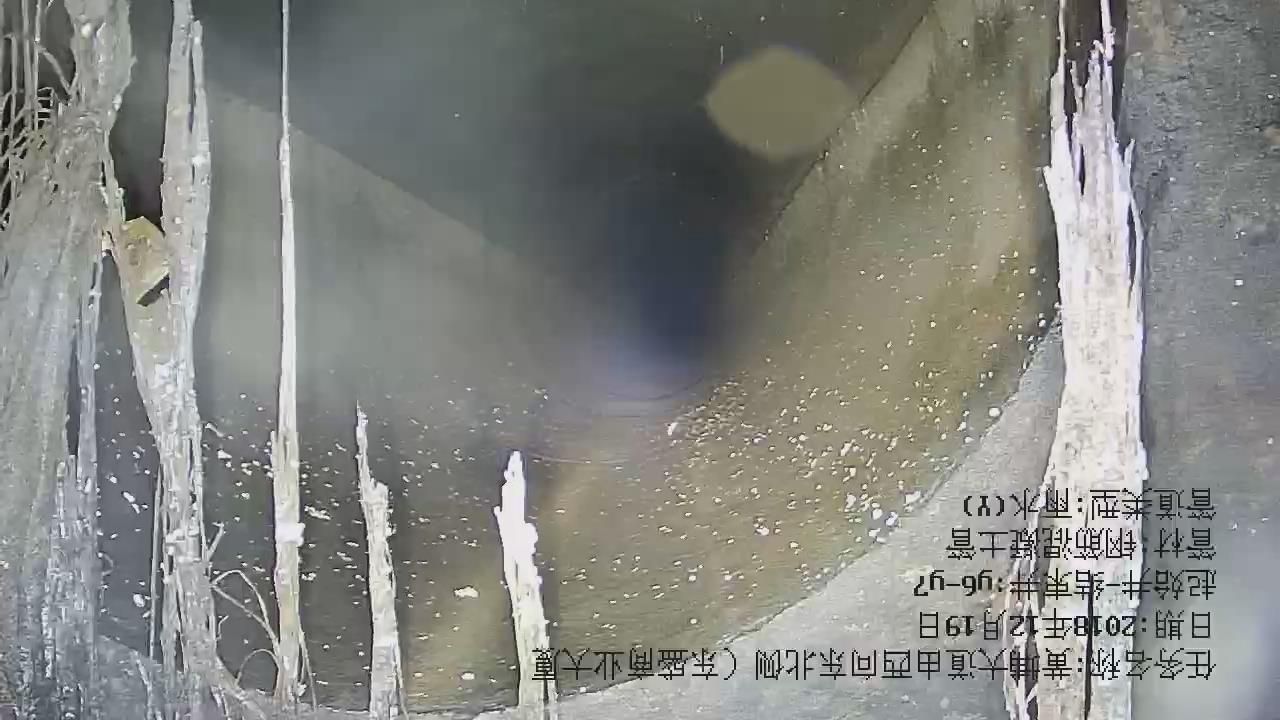SG: (474, 1, 1148, 720), (1, 1, 442, 720)
